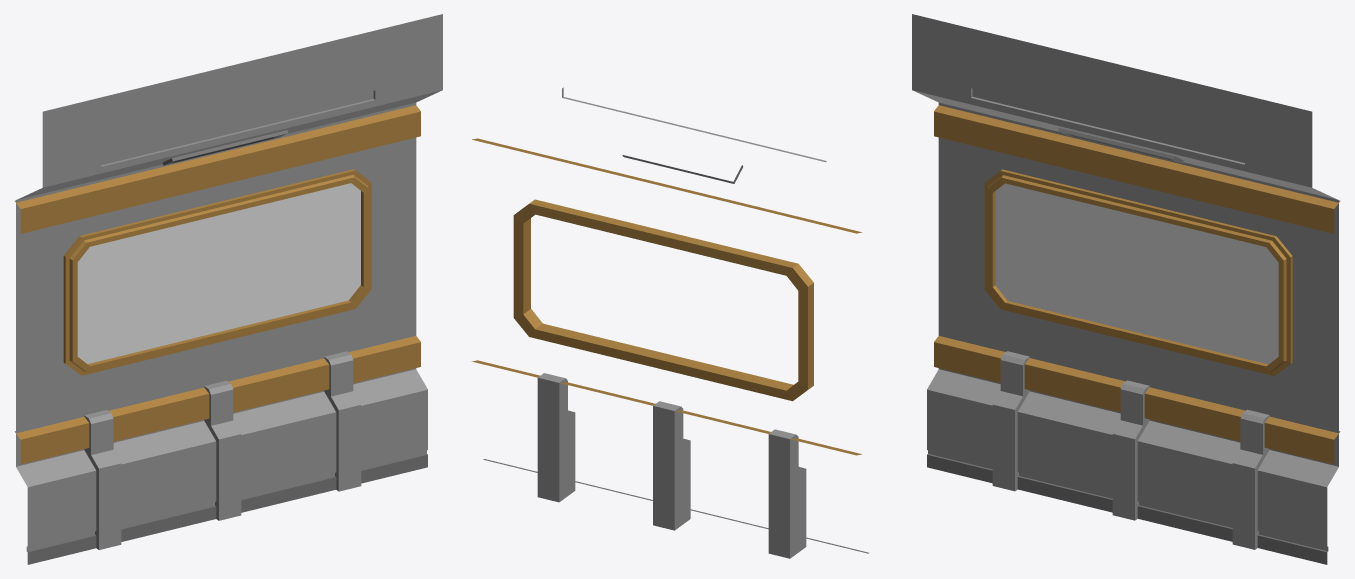
3 views of the same model, side by side, from view 1: azimuth 30°, elevation 25°; view 2: azimuth 150°, elevation 25°; view 3: azimuth 330°, elevation 25° (orthographic). The views are drawn at different scales.
Visible parts, largest first — view 1: Window_Wall_SideB; view 2: Window_Wall_SideB; view 3: Window_Wall_SideB.
Boxes of the visible parts, box(x1,y1,x2,y2) form: Window_Wall_SideB: box(14, 14, 442, 564); Window_Wall_SideB: box(471, 87, 869, 558); Window_Wall_SideB: box(912, 14, 1340, 564).
Bounding box in the file's own units: 4 × 4.43 × 0.5355.
